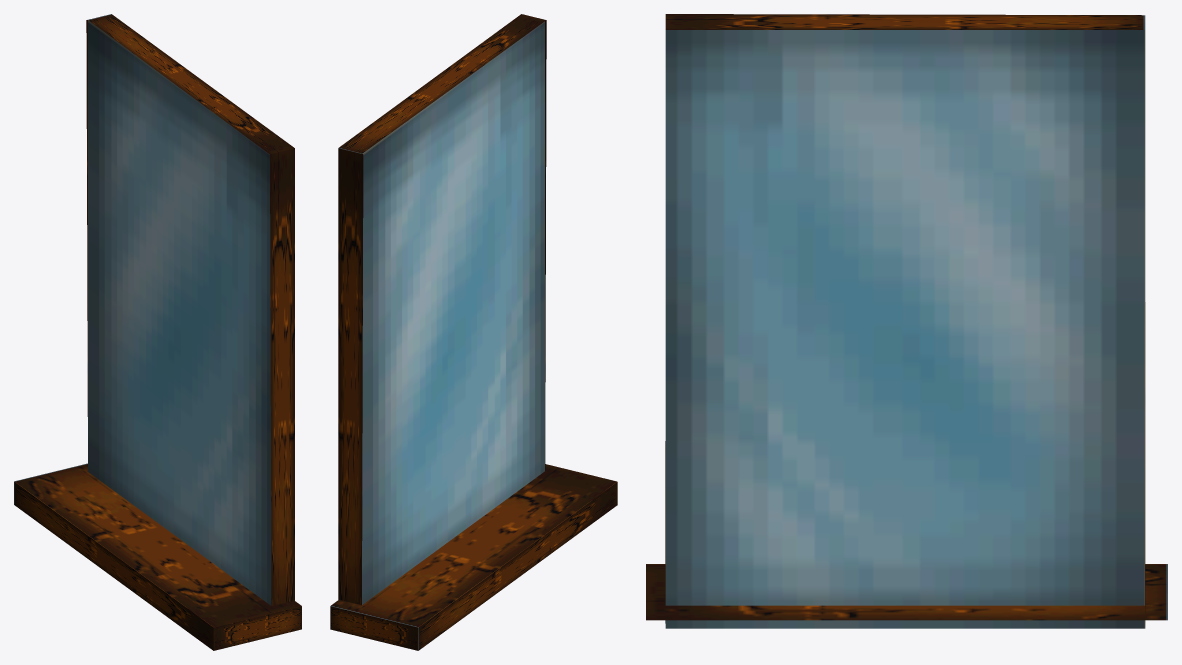
The model's file is Spiegel_1385.glb.
The picture shows the model from 3 angles, left to right: view 1: azimuth 30°, elevation 25°; view 2: azimuth 150°, elevation 25°; view 3: azimuth 270°, elevation 25°; orthographic projection. The views are drawn at different scales.
Parts seen in each view (by area): view 1: pPlaneShape1, pPlaneShape5, pPlaneShape7, pPlaneShape2, pPlaneShape6, pPlaneShape3, pPlaneShape8; view 2: pPlaneShape1, pPlaneShape5, pPlaneShape8, pPlaneShape2, pPlaneShape6, pPlaneShape4, pPlaneShape7; view 3: pPlaneShape1, pPlaneShape5, pPlaneShape6.
Part boxes in pixels (<box>): pPlaneShape1: <box>88,20,271,605</box>; pPlaneShape5: <box>14,463,301,627</box>; pPlaneShape7: <box>270,148,294,605</box>; pPlaneShape2: <box>14,481,213,650</box>; pPlaneShape6: <box>88,14,294,154</box>; pPlaneShape3: <box>213,606,301,650</box>; pPlaneShape8: <box>86,19,90,416</box>; pPlaneShape1: <box>362,21,544,604</box>; pPlaneShape5: <box>330,464,617,627</box>; pPlaneShape8: <box>338,148,363,605</box>; pPlaneShape2: <box>418,482,617,650</box>; pPlaneShape6: <box>338,14,546,153</box>; pPlaneShape4: <box>330,606,418,650</box>; pPlaneShape7: <box>545,20,546,470</box>; pPlaneShape1: <box>665,30,1145,628</box>; pPlaneShape5: <box>646,564,1167,620</box>; pPlaneShape6: <box>665,14,1145,29</box>.
Size of the model in its own units: 0.028 by 0.1428 by 0.1087.
8 materials, 8 textured.
